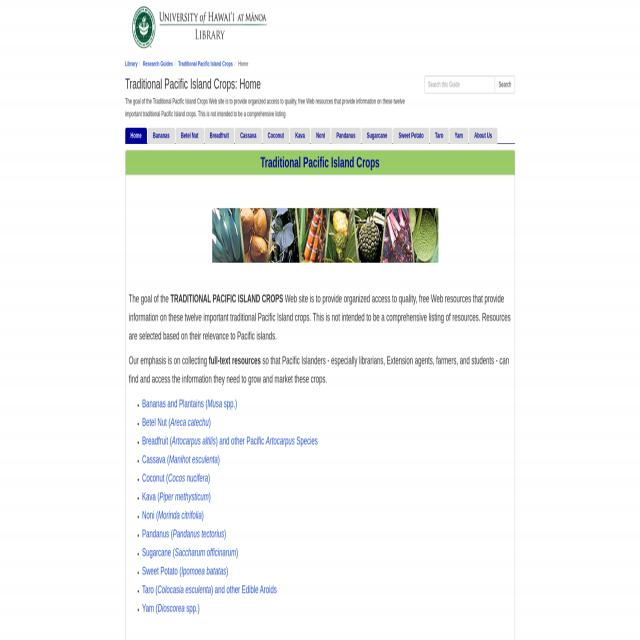button: (212, 208, 439, 263), (124, 0, 273, 52), (393, 128, 429, 144), (204, 128, 234, 144), (331, 128, 361, 144), (362, 128, 392, 144), (147, 128, 175, 144), (176, 128, 204, 144), (234, 128, 262, 144), (262, 128, 290, 144), (469, 128, 497, 144), (495, 75, 515, 94), (125, 128, 147, 144), (290, 128, 310, 144), (311, 128, 331, 144), (429, 128, 448, 144), (449, 128, 468, 144)
field: (424, 75, 496, 94)
